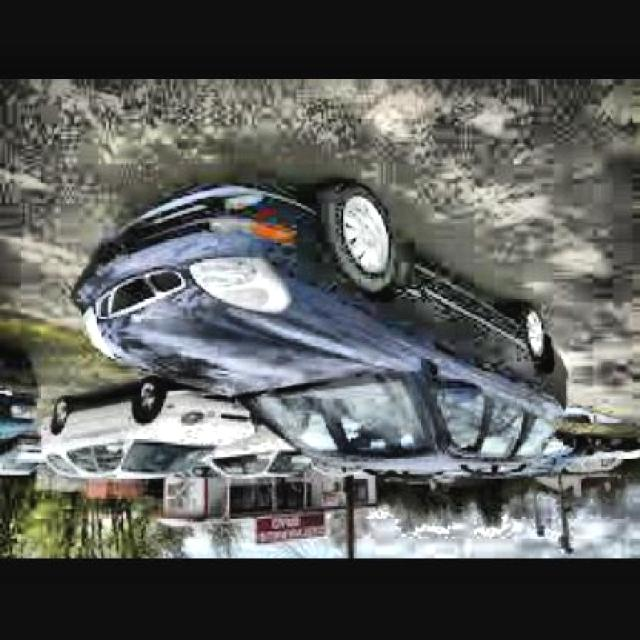black: (82, 224, 624, 476)
